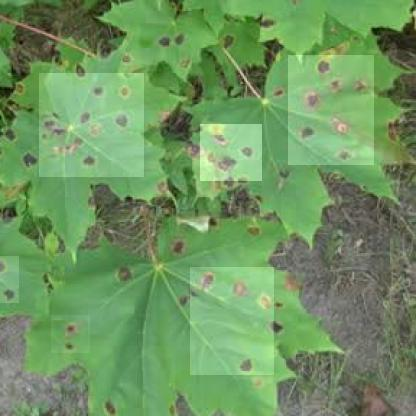black-spot: (39, 73, 144, 177), (288, 55, 374, 165), (190, 267, 274, 375), (200, 124, 262, 181), (51, 316, 90, 353), (0, 256, 19, 303)
